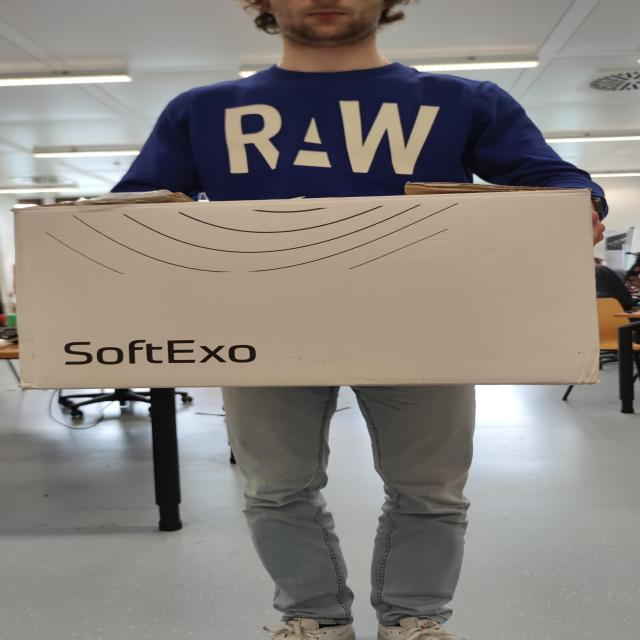box: (0, 184, 610, 391)
